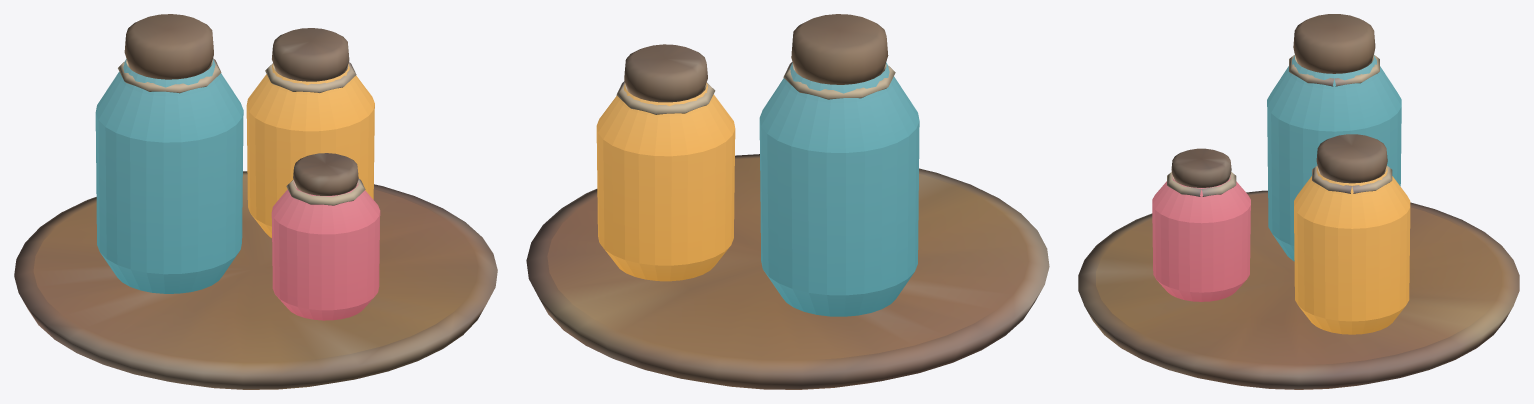
Rendered from spor_kavanoz.glb.
3 views of the same model, side by side, from view 1: azimuth 30°, elevation 25°; view 2: azimuth 150°, elevation 25°; view 3: azimuth 270°, elevation 25° (orthographic). The views are drawn at different scales.
Visible parts, largest first — view 1: spor_kavanoz_LOD0; view 2: spor_kavanoz_LOD0; view 3: spor_kavanoz_LOD0.
Part boxes in pixels (x1,y1,x2,y2): spor_kavanoz_LOD0: [14, 14, 497, 389]; spor_kavanoz_LOD0: [526, 14, 1049, 389]; spor_kavanoz_LOD0: [1078, 14, 1519, 389].
Size of what is drawn, in the model's own units: 0.5 by 0.3206 by 0.4983.
